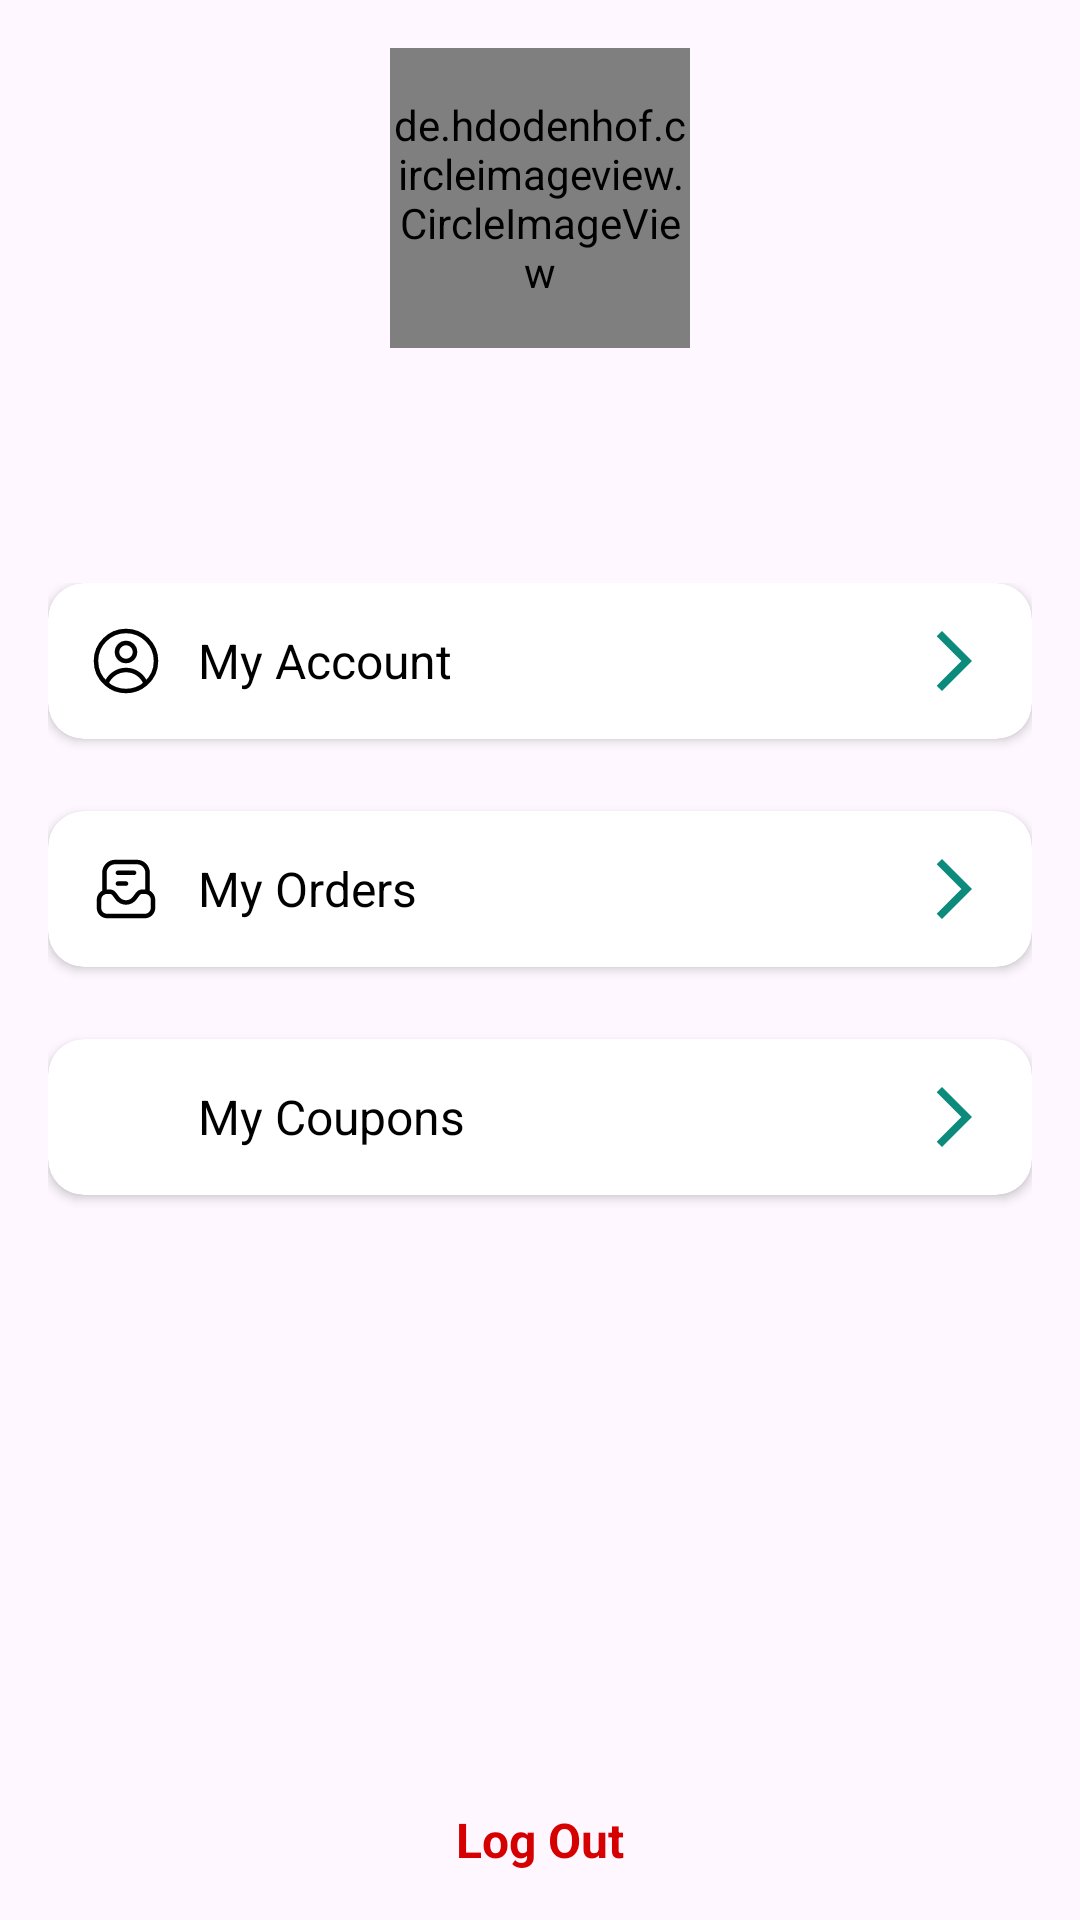

Icons on this 1080x1920 Android screen, each with its box as (x1, y1, x2, y2):
profil: (93, 628, 159, 694)
right row: (937, 631, 972, 691), (937, 859, 972, 919), (937, 1087, 972, 1147)
siparislerim: (96, 859, 156, 919)
